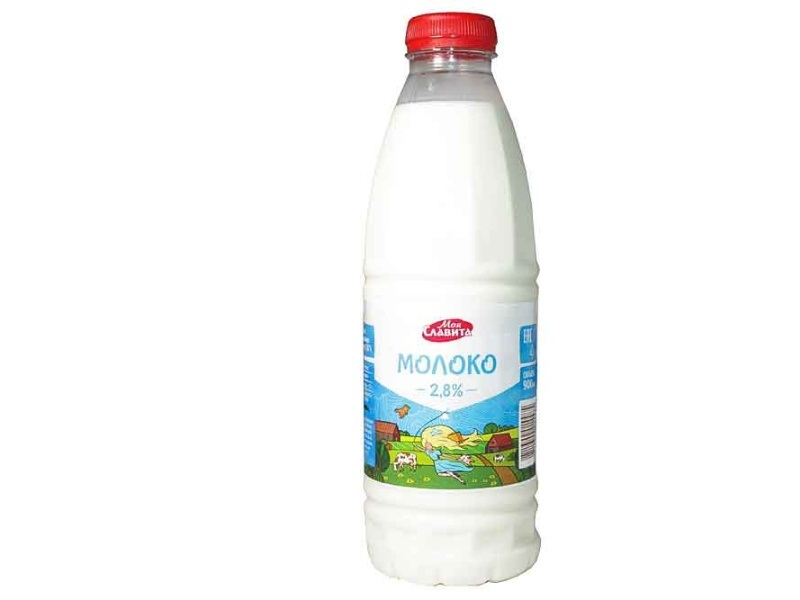milk: (324, 8, 592, 598)
